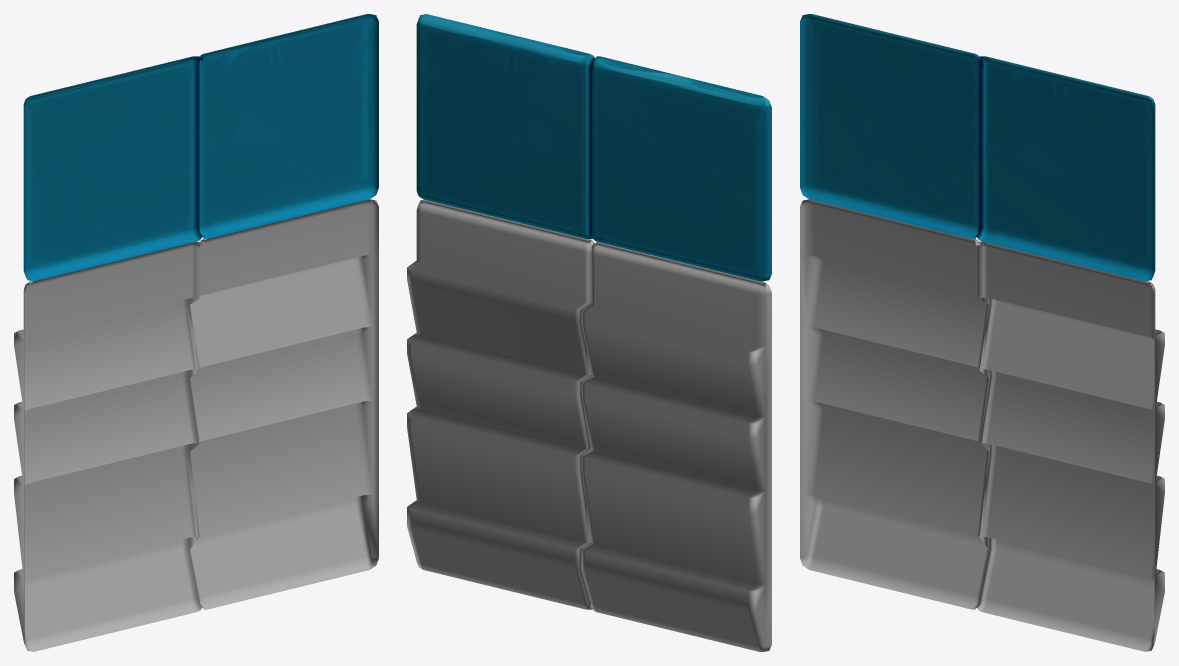
The model's file is WallColumn_v4.fbx.
3 views of the same model, side by side, from view 1: azimuth 30°, elevation 25°; view 2: azimuth 150°, elevation 25°; view 3: azimuth 330°, elevation 25° (orthographic).
Parts seen in each view (by area): view 1: WallColumn_v4; view 2: WallColumn_v4; view 3: WallColumn_v4.
Part boxes in pixels (x1,y1,x2,y2): WallColumn_v4: (14,14,378,651); WallColumn_v4: (407,14,771,651); WallColumn_v4: (800,14,1164,651).
Size of the model in its own units: 100 by 150 by 7.72.
